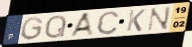A: (69, 11, 96, 37)
C: (95, 10, 121, 36)
G: (21, 15, 45, 41)
K: (125, 9, 147, 33)
N: (146, 5, 173, 32)
Q: (43, 14, 68, 40)
